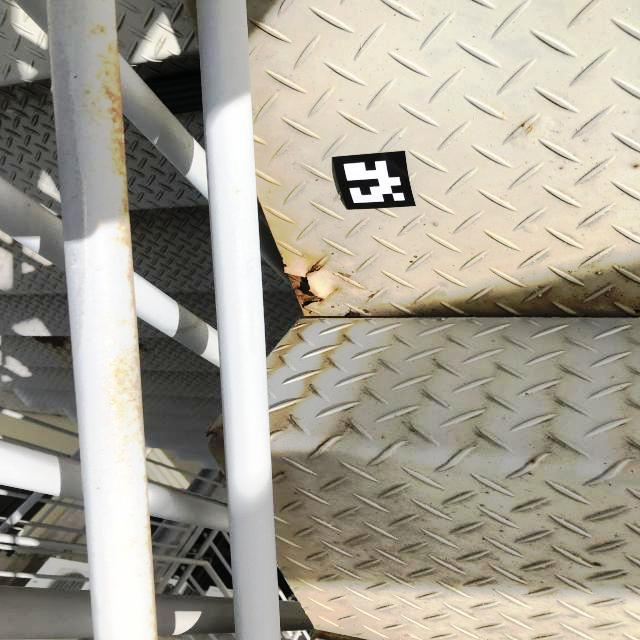Corrosion: (86, 34, 145, 464), (288, 255, 339, 308), (144, 473, 157, 640), (31, 336, 69, 348), (96, 25, 105, 34), (526, 126, 533, 135), (519, 122, 525, 128), (139, 342, 144, 349), (144, 349, 148, 352)
